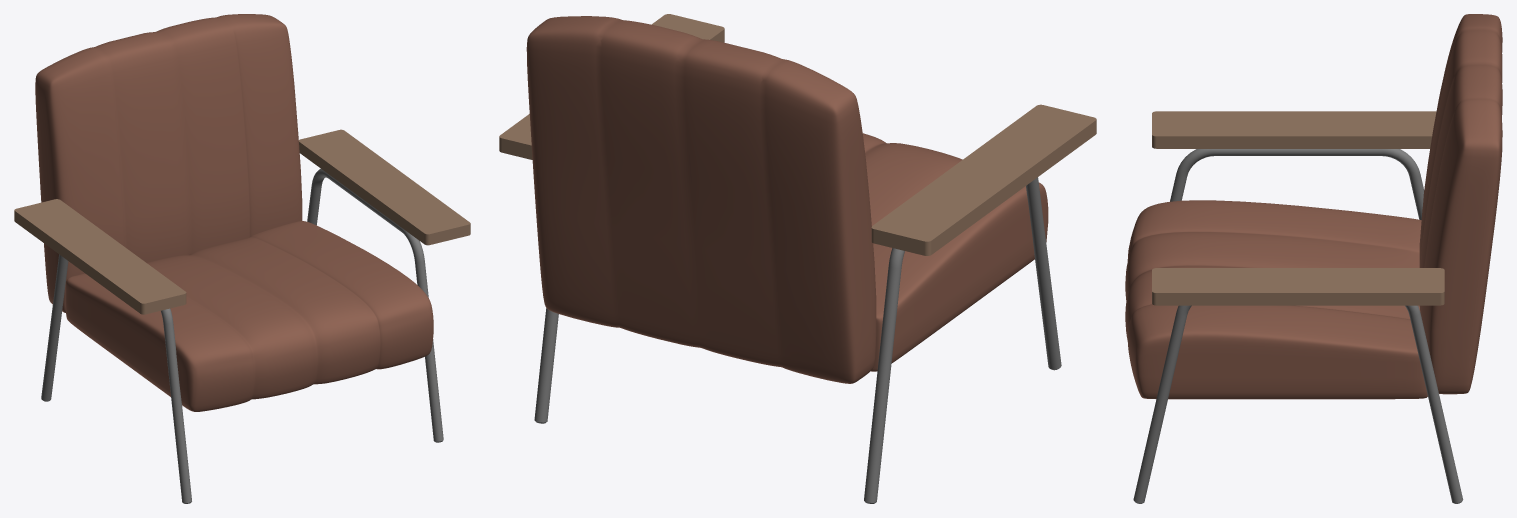
The model's file is 729_sofa_1seat.glb.
3 renders of one model, left to right at view 1: azimuth 30°, elevation 25°; view 2: azimuth 150°, elevation 25°; view 3: azimuth 270°, elevation 25°, orthographic. The views are drawn at different scales.
Parts seen in each view (by area): view 1: Body; view 2: Body; view 3: Body.
Part boxes in pixels (x1,y1,x2,y2): Body: (14,14,470,503); Body: (499,14,1096,503); Body: (1125,14,1502,503).
Size of the model in its own units: 0.9431 by 0.8994 by 0.8277.
